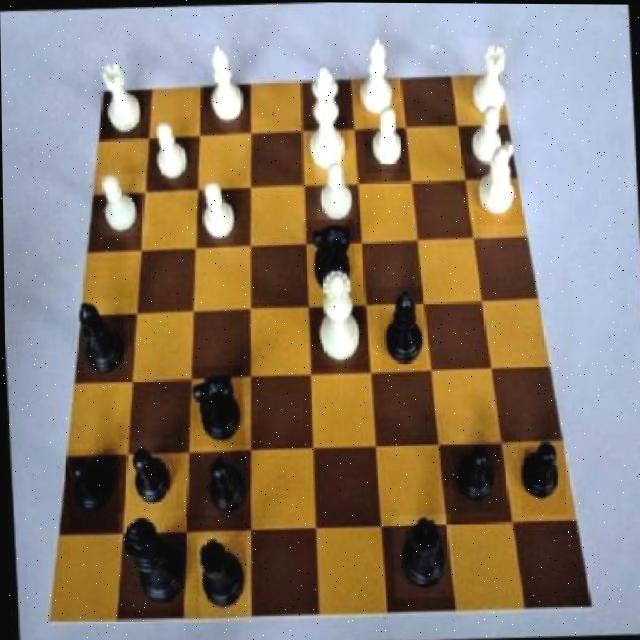bishop: (74, 299, 131, 381), (376, 285, 426, 371)
black-bishop: (116, 512, 184, 612)
black-king: (302, 218, 356, 314), (187, 364, 244, 447)
black-knight: (63, 448, 120, 531), (122, 437, 175, 513), (516, 438, 566, 516), (451, 440, 501, 514), (199, 447, 247, 514)
black-queen: (390, 513, 453, 597), (196, 535, 253, 616)
black-rook: (351, 33, 401, 123), (203, 41, 251, 125)
white-bishop: (304, 65, 350, 176)
white-king: (470, 129, 526, 225)
white-knight: (96, 173, 149, 237), (464, 101, 510, 174), (194, 180, 241, 251), (314, 150, 358, 225), (150, 118, 193, 190), (362, 102, 405, 172)
white-pawn: (307, 265, 367, 370)
white-queen: (93, 56, 146, 143), (463, 37, 515, 121)
